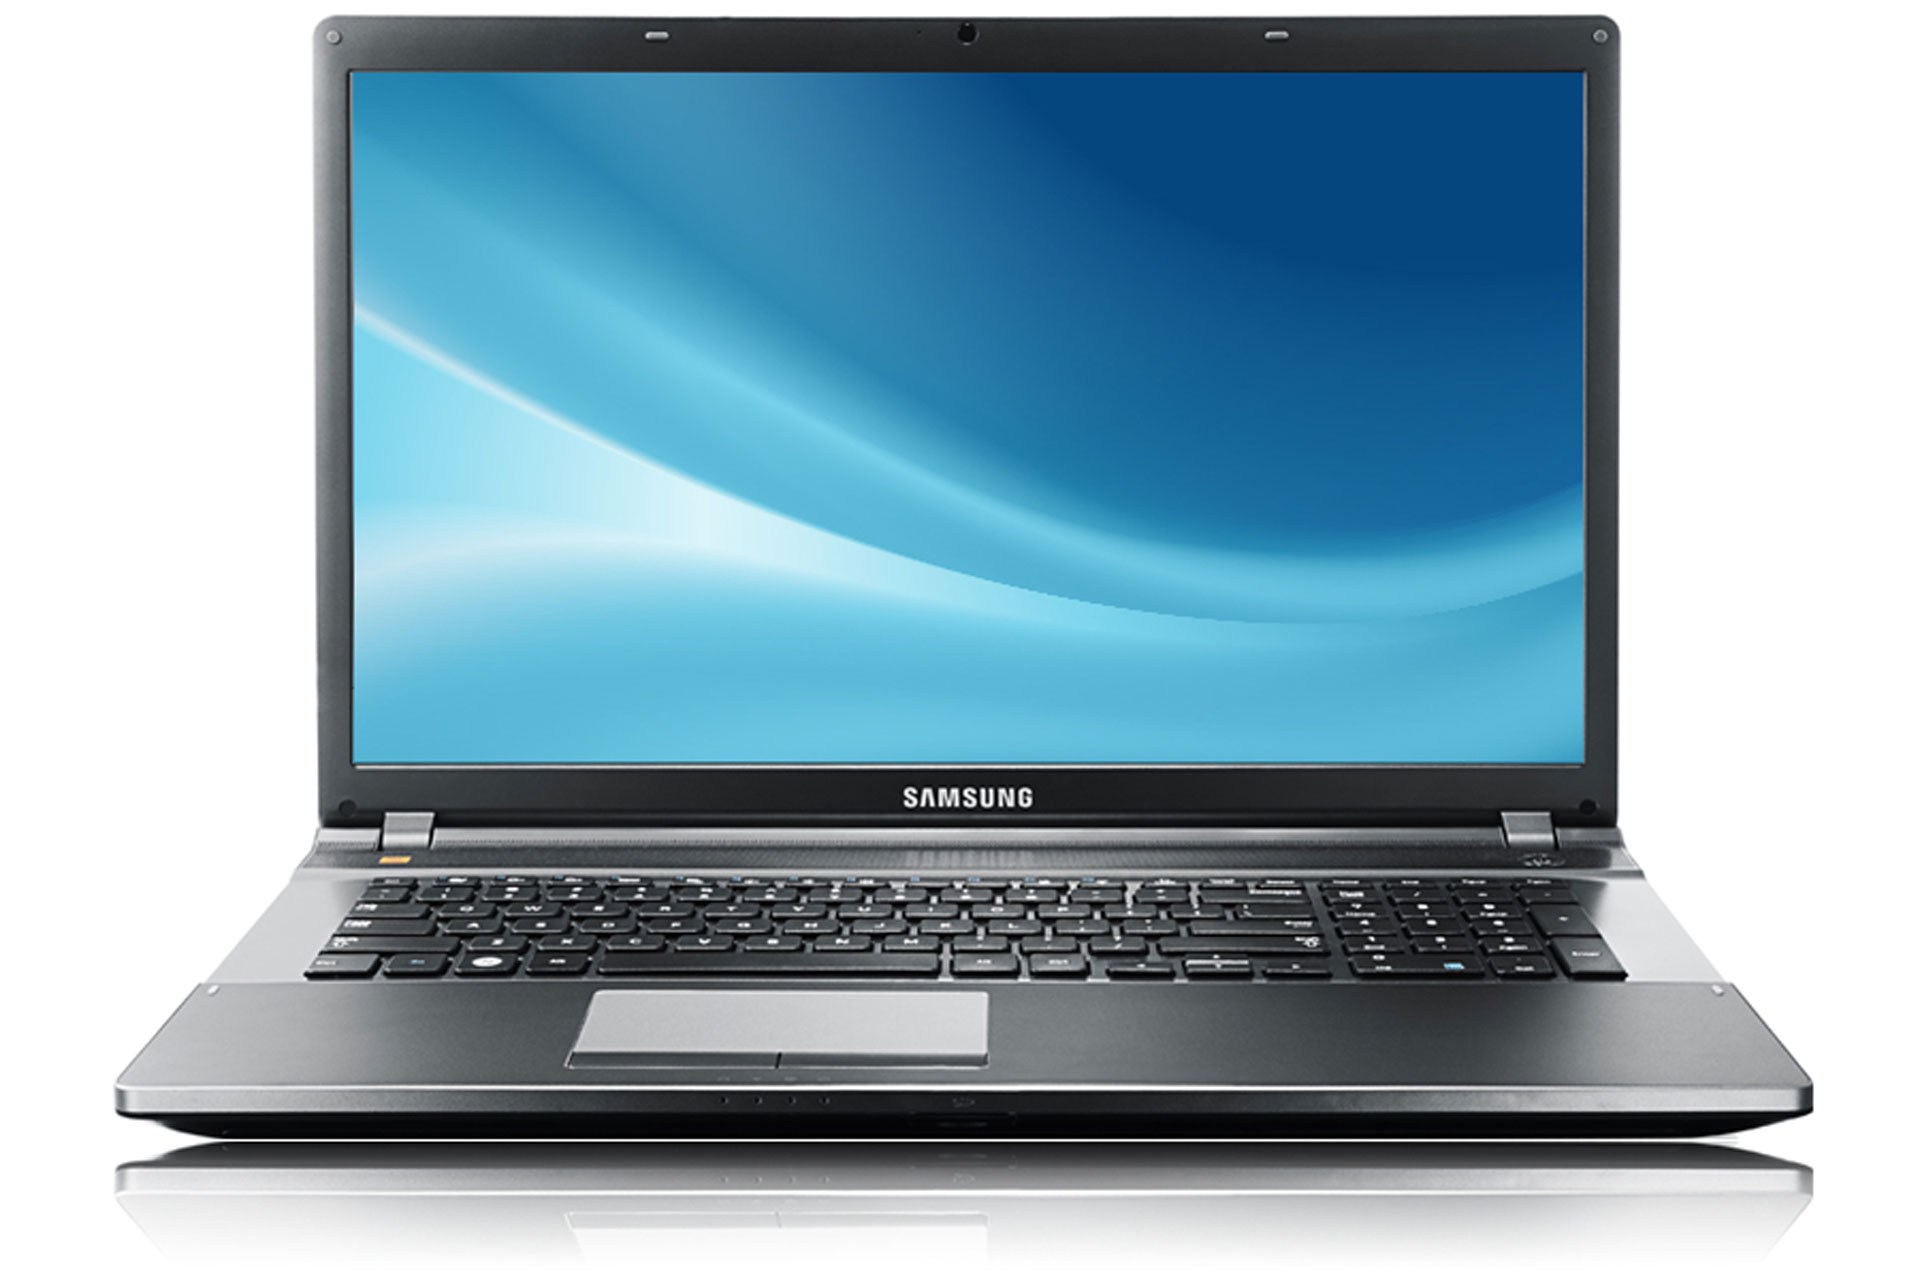laptop: (187, 1, 1734, 1130)
